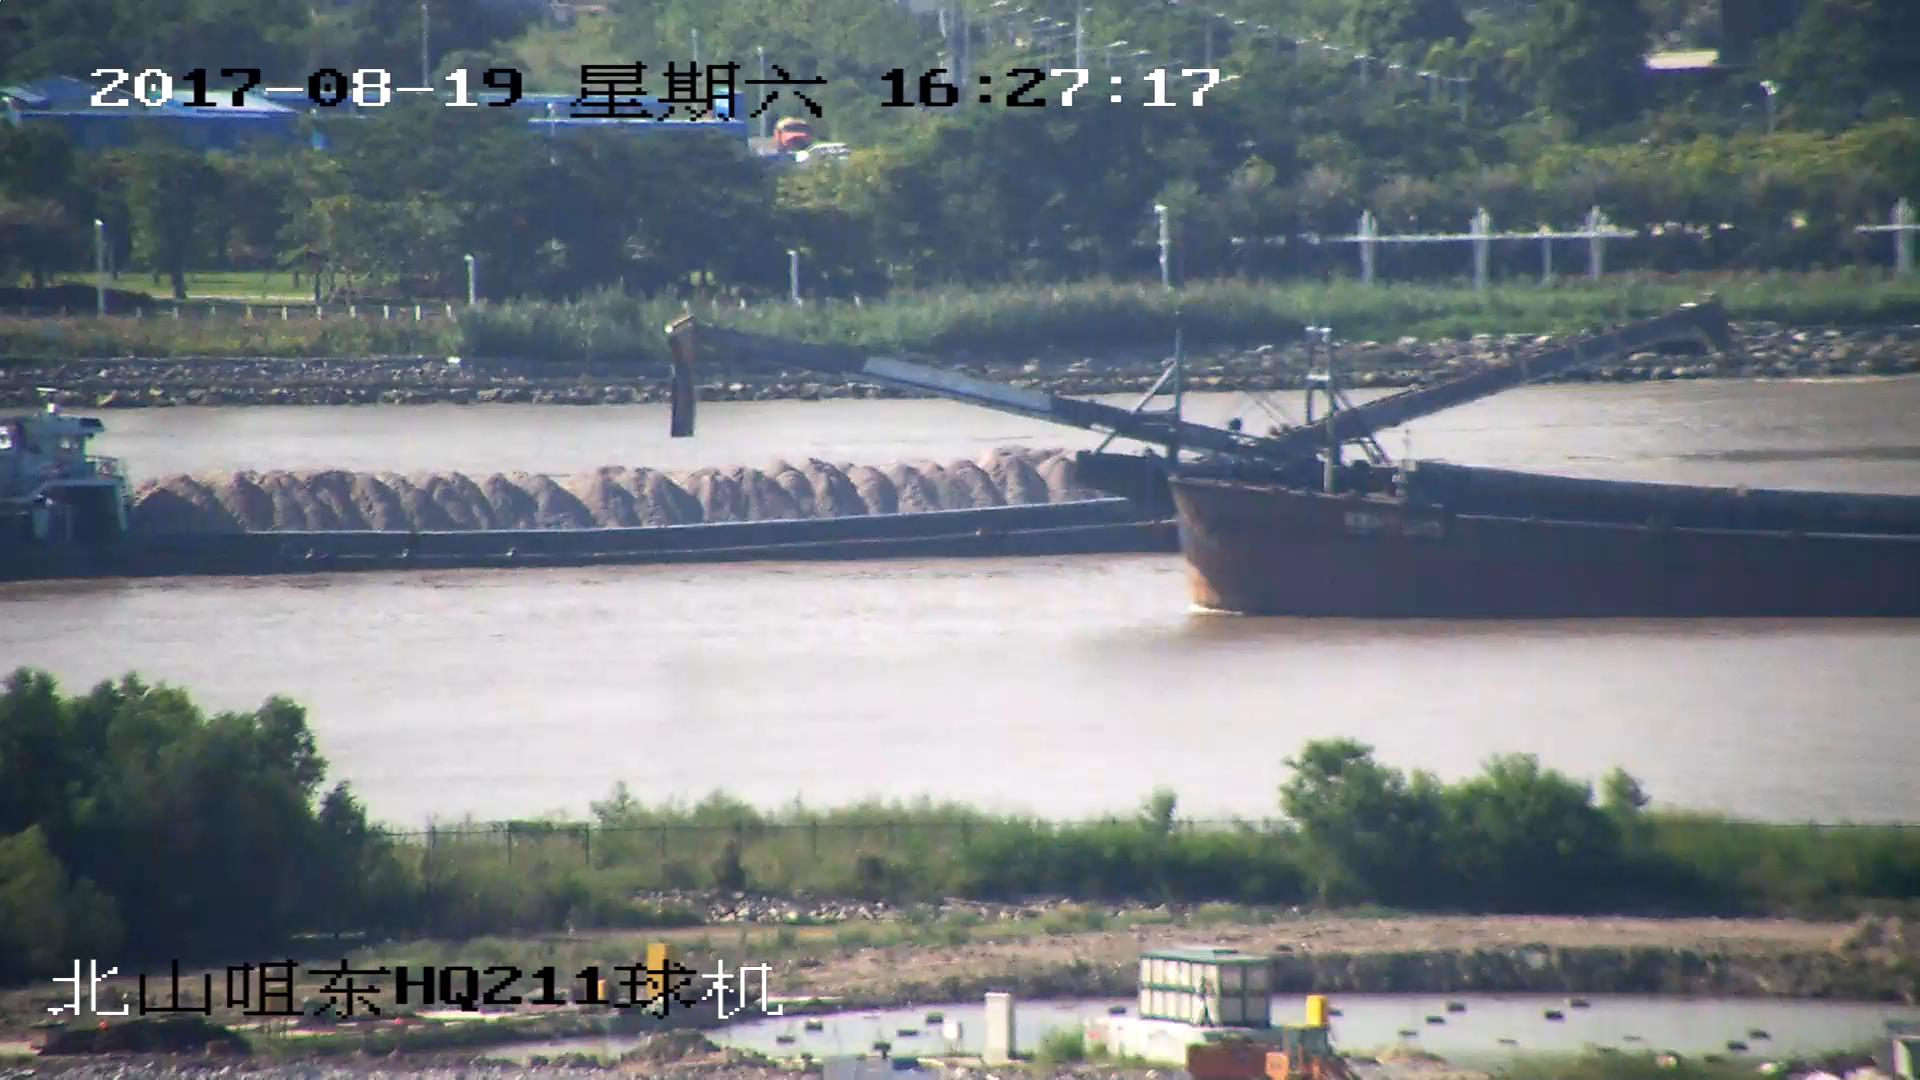bulk cargo carrier: (666, 318, 1919, 621)
ore carrier: (1, 301, 1715, 580)
